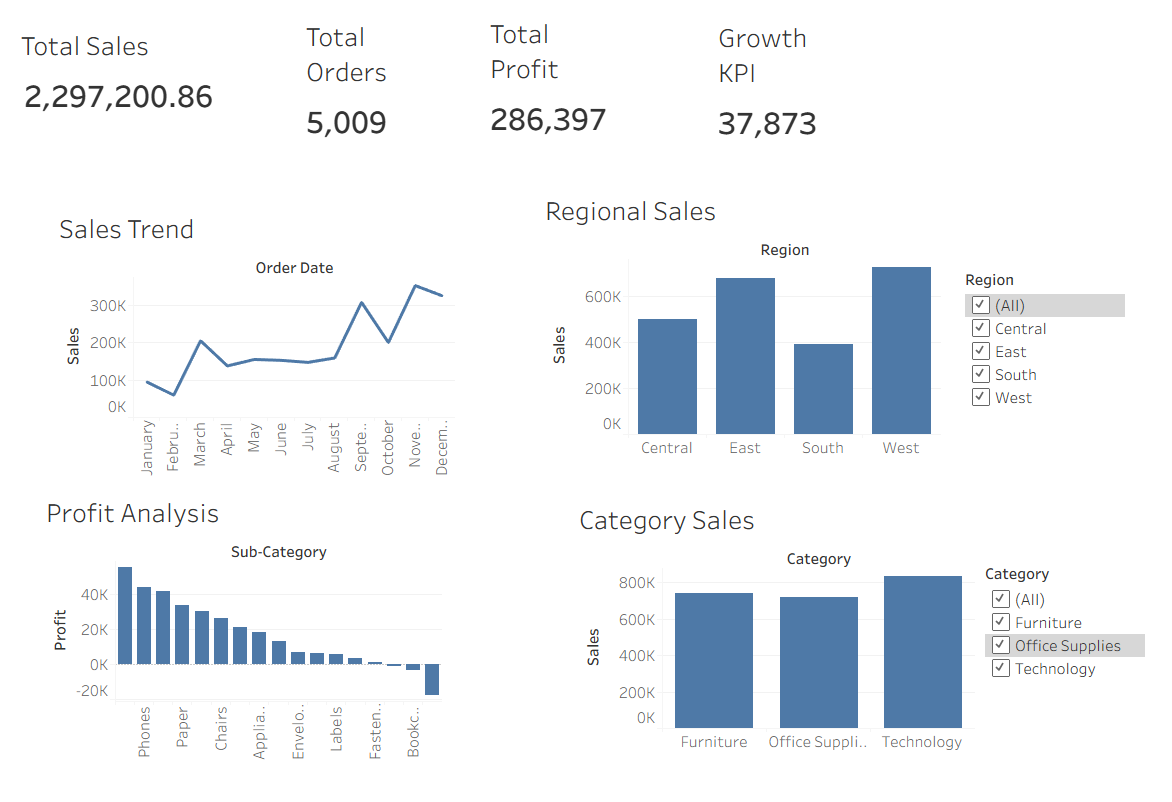

What the dashboard file says about the page in this screenshot:
{"tool":"tableau","page":{"name":"Dashboard 1","canvas":[1000,1000],"units":"permille","ordinal":0},"visuals":[{"type":"worksheet","title":"Total Profit","mark":"Automatic","box":[406.7,19.8,333.3,313.9]},{"type":"worksheet","title":"Total Orders","mark":"Automatic","box":[253.3,23.3,333.3,313.9]},{"type":"worksheet","title":"Growth KPI","mark":"Automatic","box":[596.7,24.4,333.3,313.9]},{"type":"worksheet","title":"Total Sales","mark":"Automatic","box":[15.8,33.7,333.3,313.9]},{"type":"worksheet","title":"Regional Sales","mark":"Automatic","rows":["Sales"],"cols":["Region"],"box":[452.5,225.6,333.3,313.9]},{"type":"worksheet","title":"Sales Trend","mark":"Automatic","rows":["Sales"],"cols":["Order Date"],"box":[47.5,246.5,333.3,313.9]},{"type":"filter","title":"Regional Sales","param":"[federated.1jxzjud1xuzfba17j9qrn1278emh].[none:Region:nk]","box":[805.8,318.6,133.3,166.3]},{"type":"worksheet","title":"Profit Analysis","mark":"Automatic","rows":["Profit"],"cols":["Sub-Category"],"box":[36.7,576.7,333.3,313.9]},{"type":"worksheet","title":"Category Sales","mark":"Automatic","rows":["Sales"],"cols":["Category"],"box":[480.8,584.9,333.3,313.9]},{"type":"filter","title":"Category Sales","param":"[federated.1jxzjud1xuzfba17j9qrn1278emh].[none:Category:nk]","box":[822.5,660.5,133.3,139.5]}]}

Visuals, with their boxes on the dashboard's canvas, which has no fixed pixel size, in thousandths of its width and height (x1, y1, x2, y2). These are canvas units, not pixel positions in the 1172x802 screenshot, which may show the page scaled, cropped or inside an application window:
"Total Profit" worksheet: bbox=(407, 20, 740, 334)
"Total Orders" worksheet: bbox=(253, 23, 587, 337)
"Growth KPI" worksheet: bbox=(597, 24, 930, 338)
"Total Sales" worksheet: bbox=(16, 34, 349, 348)
"Regional Sales" worksheet: bbox=(452, 226, 786, 540)
"Sales Trend" worksheet: bbox=(48, 246, 381, 560)
"Regional Sales" filter: bbox=(806, 319, 939, 485)
"Profit Analysis" worksheet: bbox=(37, 577, 370, 891)
"Category Sales" worksheet: bbox=(481, 585, 814, 899)
"Category Sales" filter: bbox=(822, 660, 956, 800)
